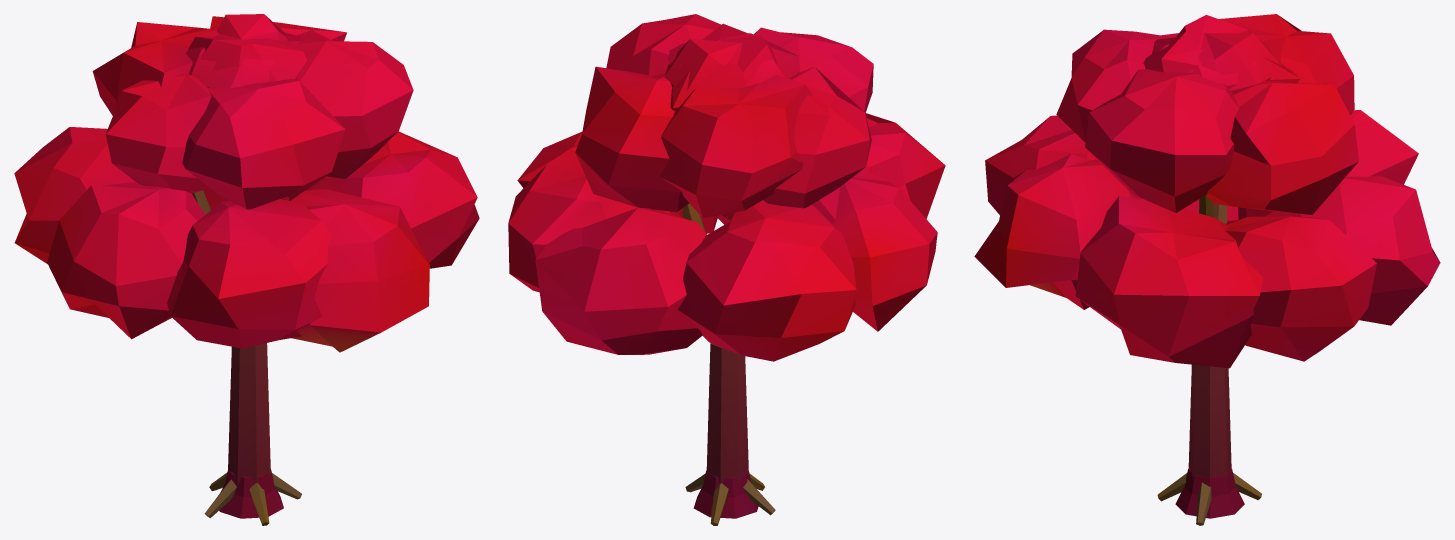
The model's file is Tree_Maple_Autumn_01.glb.
The picture shows the model from 3 angles, left to right: view 1: azimuth 30°, elevation 25°; view 2: azimuth 150°, elevation 25°; view 3: azimuth 270°, elevation 25°; orthographic projection.
Parts seen in each view (by area): view 1: Tree_Maple_Autumn_01; view 2: Tree_Maple_Autumn_01; view 3: Tree_Maple_Autumn_01.
Boxes of the visible parts, bbox=[...] form: Tree_Maple_Autumn_01: bbox=[14, 14, 479, 525]; Tree_Maple_Autumn_01: bbox=[508, 14, 945, 525]; Tree_Maple_Autumn_01: bbox=[974, 14, 1440, 525].
Size of the model in its own units: 6.18 by 6.97 by 6.24.
